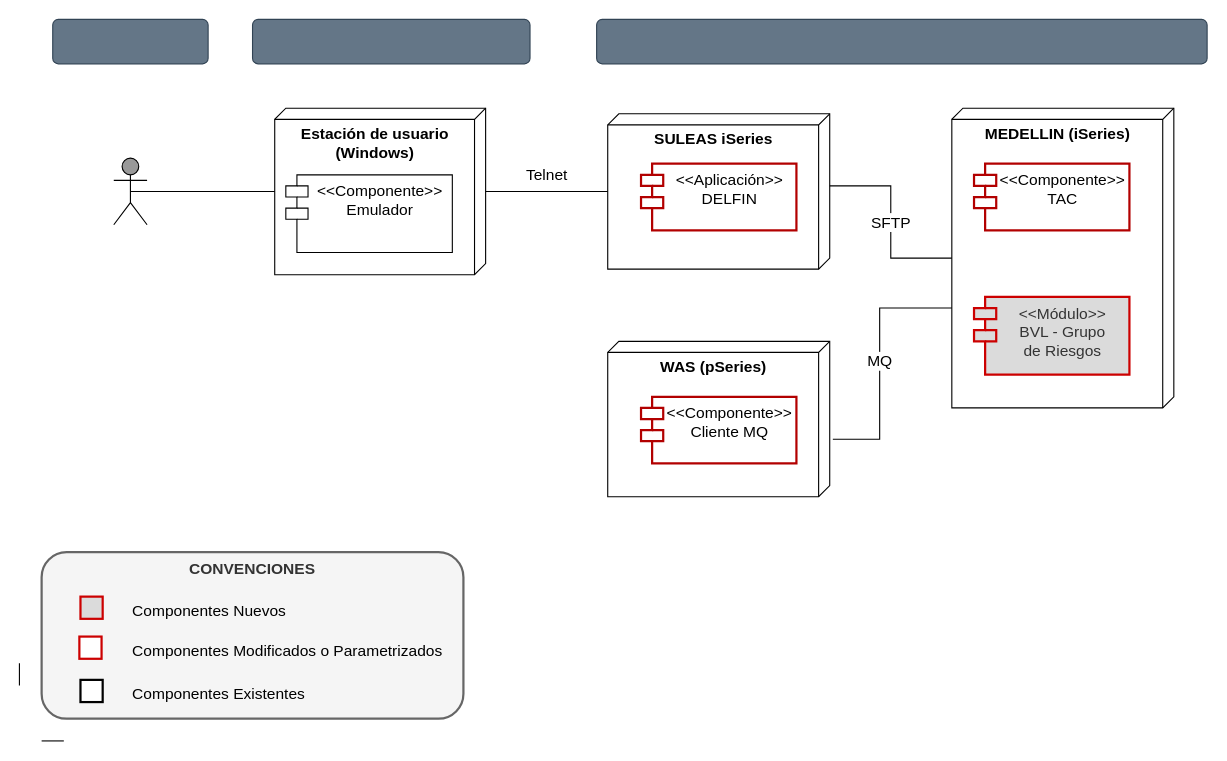
Some shapes in this 1227 by 761 pixel diagram are drawn without their labels. Here are the shapes that lost their labels. From the top down, the centre of each, then its label:
At point (130, 41): "Actores".
At point (390, 41): "Punto de Acceso".
At point (901, 41): "Componentes".
At point (130, 191): "Usuario".
